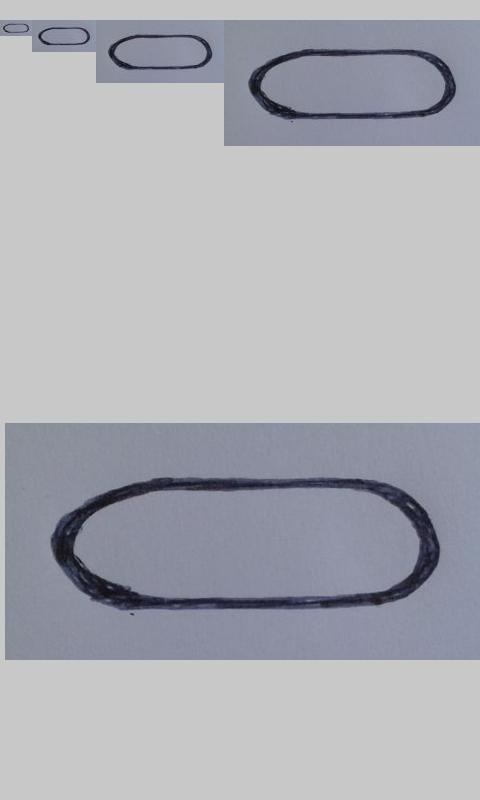chip: (47, 476, 442, 613), (246, 49, 458, 121), (107, 34, 213, 71), (38, 27, 91, 46), (3, 23, 30, 34)
